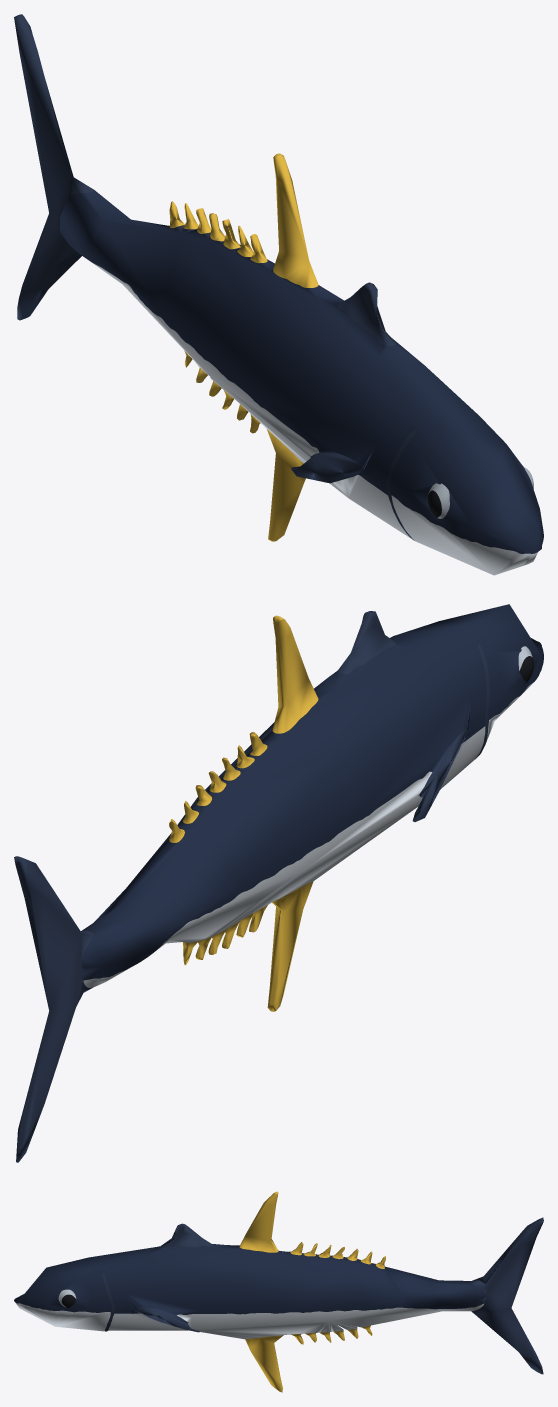
The model's file is w_knife@knife_fish.glb.
3 views of the same model, one above another, from view 1: azimuth 30°, elevation 25°; view 2: azimuth 150°, elevation 25°; view 3: azimuth 270°, elevation 25° (orthographic). The views are drawn at different scales.
Parts seen in each view (by area): view 1: fish_wzA__back__p1f2b44, fish_wzN__fin__p26324a, fish_wzN__yellow__pe0b53c, fish_wzA__belly__pd3dbe3; view 2: fish_wzA__back__p1f2b44, fish_wzN__fin__p26324a, fish_wzN__yellow__pe0b53c, fish_wzA__belly__pd3dbe3; view 3: fish_wzA__back__p1f2b44, fish_wzA__belly__pd3dbe3, fish_wzN__fin__p26324a, fish_wzN__yellow__pe0b53c.
Boxes of the visible parts, left/top/right/bottom form: fish_wzA__back__p1f2b44: left=59, top=190, right=543, bottom=553; fish_wzN__fin__p26324a: left=14, top=14, right=416, bottom=540; fish_wzN__yellow__pe0b53c: left=169, top=153, right=318, bottom=541; fish_wzA__belly__pd3dbe3: left=87, top=259, right=537, bottom=575; fish_wzA__back__p1f2b44: left=81, top=604, right=543, bottom=980; fish_wzN__fin__p26324a: left=14, top=611, right=489, bottom=1162; fish_wzN__yellow__pe0b53c: left=169, top=615, right=318, bottom=1011; fish_wzA__belly__pd3dbe3: left=83, top=682, right=533, bottom=987; fish_wzA__back__p1f2b44: left=14, top=1244, right=485, bottom=1315; fish_wzA__belly__pd3dbe3: left=14, top=1301, right=484, bottom=1339; fish_wzN__fin__p26324a: left=102, top=1217, right=543, bottom=1374; fish_wzN__yellow__pe0b53c: left=239, top=1191, right=385, bottom=1392.
Size of the model in its own units: 0.0613 by 0.1758 by 0.4206.
